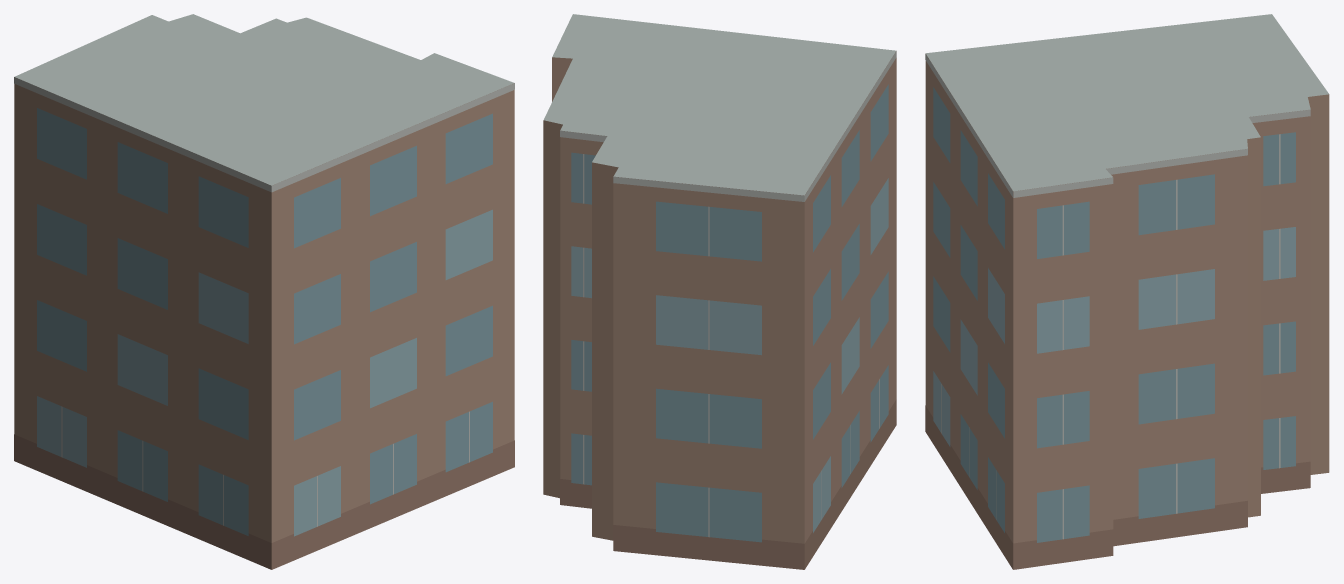
The model's file is survey-upis-32651070.glb.
3 views of the same model, side by side, from view 1: azimuth 30°, elevation 25°; view 2: azimuth 150°, elevation 25°; view 3: azimuth 270°, elevation 25° (orthographic). The views are drawn at different scales.
Visible parts, largest first — view 1: survey-upis-32651070.tmp; view 2: survey-upis-32651070.tmp; view 3: survey-upis-32651070.tmp.
Boxes of the visible parts, bbox=[...] form: survey-upis-32651070.tmp: bbox=[14, 14, 514, 569]; survey-upis-32651070.tmp: bbox=[543, 14, 896, 569]; survey-upis-32651070.tmp: bbox=[925, 14, 1329, 569].
Bounding box in the file's own units: 13.99 × 13.9 × 13.46.
